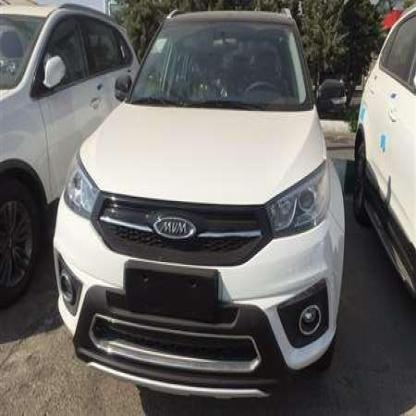Car: (56, 14, 350, 416), (0, 2, 146, 306), (347, 0, 416, 355)
